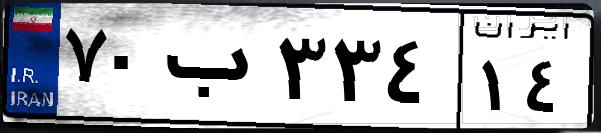0: (110, 28, 158, 98)
1: (475, 38, 525, 113)
3: (270, 28, 330, 110), (330, 28, 385, 110)
4: (385, 28, 445, 110), (525, 38, 570, 115)
7: (57, 26, 110, 100)
ب: (158, 20, 270, 120)
